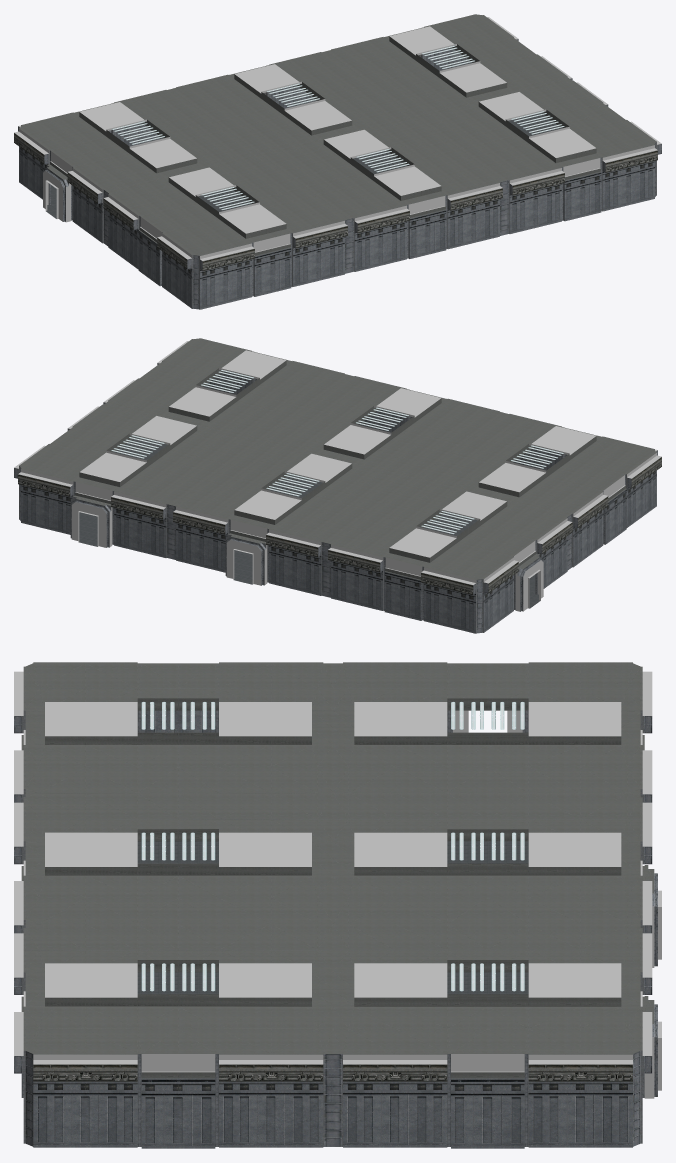
Rendered from poi_all_impl_bunker_warren_s01_r18_mediumroom18_mesh_r18.fbx.
3 renders of one model, top to bottom at view 1: azimuth 30°, elevation 25°; view 2: azimuth 150°, elevation 25°; view 3: azimuth 270°, elevation 25°, orthographic. The views are drawn at different scales.
Visible parts, largest first — view 1: mesh_node; view 2: mesh_node; view 3: mesh_node.
Boxes of the visible parts, x1=… form: mesh_node: x1=14, y1=14, x2=661, y2=309; mesh_node: x1=14, y1=338, x2=661, y2=633; mesh_node: x1=14, y1=662, x2=661, y2=1148.
Bounding box in the file's own units: 49.5 × 6 × 33.5.
